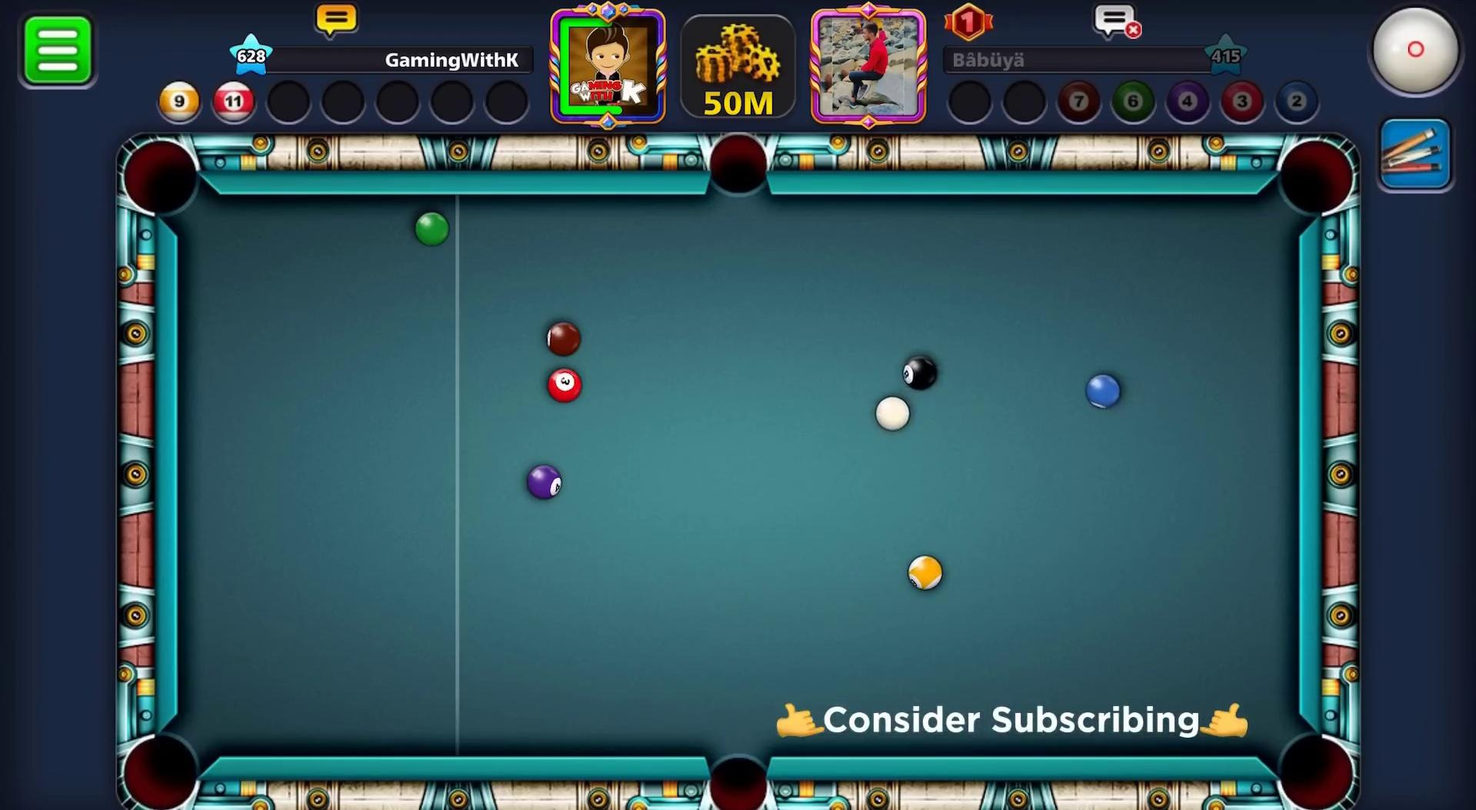Ball: (510, 452, 574, 506), (541, 359, 589, 420), (531, 315, 585, 363), (1081, 369, 1127, 418), (895, 352, 942, 396), (904, 550, 947, 596), (406, 211, 448, 250)
Hole: (101, 709, 224, 809), (105, 124, 209, 228), (1267, 126, 1364, 229), (1261, 715, 1365, 809), (701, 121, 786, 218), (686, 732, 784, 809)
Play_Area: (186, 195, 1298, 754)
Spin: (1362, 0, 1475, 111)
White: (869, 388, 915, 438)
